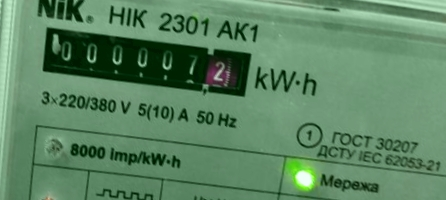0: (57, 37, 74, 62), (134, 45, 151, 69), (109, 42, 125, 67), (159, 47, 175, 72), (83, 40, 99, 64)
2: (211, 58, 227, 83)
7: (184, 51, 200, 76)
screen: (28, 12, 262, 109)
